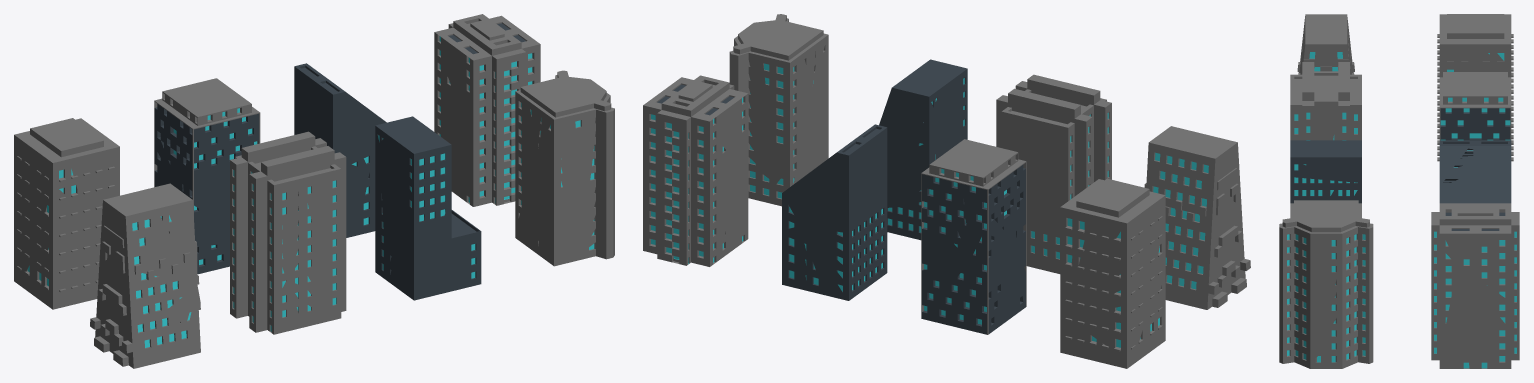
File: CityBuildings.fbx
3 views of the same model, side by side, from view 1: azimuth 30°, elevation 25°; view 2: azimuth 150°, elevation 25°; view 3: azimuth 270°, elevation 25° (orthographic). The views are drawn at different scales.
Parts seen in each view (by area): view 1: Cube.003, Cube.007, Cube.002, Cube.008, Cube.006, Cube.005, Cube.001, Cube.004; view 2: Cube.001, Cube.006, Cube.008, Cube.004, Cube.007, Cube.002, Cube.003, Cube.005; view 3: Cube.007, Cube.006, Cube.003, Cube.001, Cube.008, Cube.004, Cube.005, Cube.002.
Part boxes in pixels (bbox=[...]): Cube.003: bbox=[230, 131, 346, 334]; Cube.007: bbox=[515, 70, 614, 266]; Cube.002: bbox=[90, 183, 200, 368]; Cube.008: bbox=[14, 118, 119, 309]; Cube.006: bbox=[434, 14, 540, 206]; Cube.005: bbox=[375, 116, 481, 300]; Cube.001: bbox=[154, 78, 260, 274]; Cube.004: bbox=[294, 63, 386, 237]; Cube.001: bbox=[921, 139, 1026, 334]; Cube.006: bbox=[643, 75, 748, 266]; Cube.008: bbox=[1060, 178, 1165, 368]; Cube.004: bbox=[782, 124, 887, 300]; Cube.007: bbox=[729, 14, 828, 206]; Cube.002: bbox=[1144, 126, 1250, 309]; Cube.003: bbox=[996, 74, 1111, 273]; Cube.005: bbox=[879, 59, 967, 240]; Cube.007: bbox=[1279, 200, 1373, 368]; Cube.006: bbox=[1431, 203, 1519, 368]; Cube.003: bbox=[1290, 62, 1361, 140]; Cube.001: bbox=[1439, 72, 1511, 140]; Cube.008: bbox=[1437, 14, 1513, 161]; Cube.004: bbox=[1439, 140, 1511, 203]; Cube.005: bbox=[1290, 140, 1361, 203]; Cube.002: bbox=[1297, 14, 1354, 74].
Size of the model in its own units: 704 by 222 by 322.
